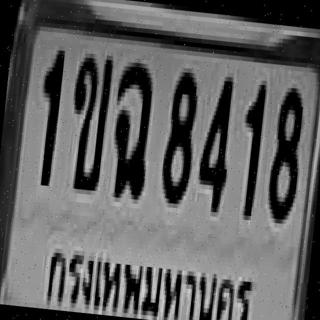A02: (64, 48, 112, 191)
A09: (106, 56, 156, 196)
N01: (32, 45, 64, 182), (234, 79, 265, 216)
N04: (194, 70, 235, 208)
N08: (264, 82, 305, 220), (158, 66, 198, 200)
P04: (40, 234, 258, 320)
